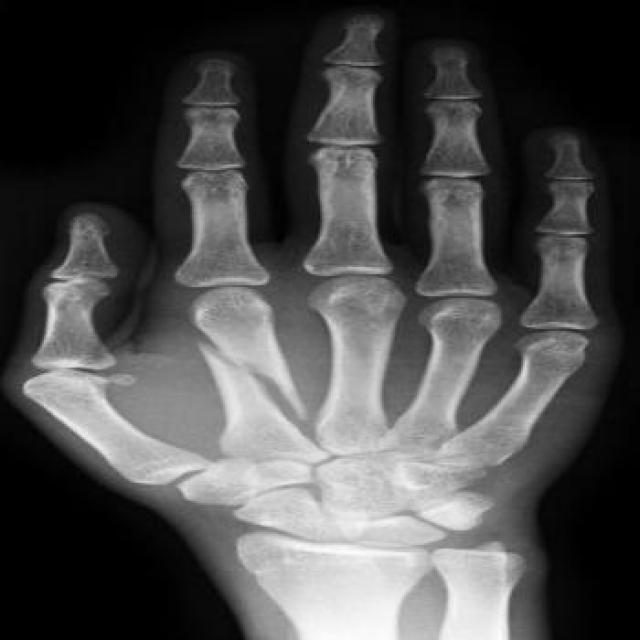fracture: (190, 334, 309, 419)
